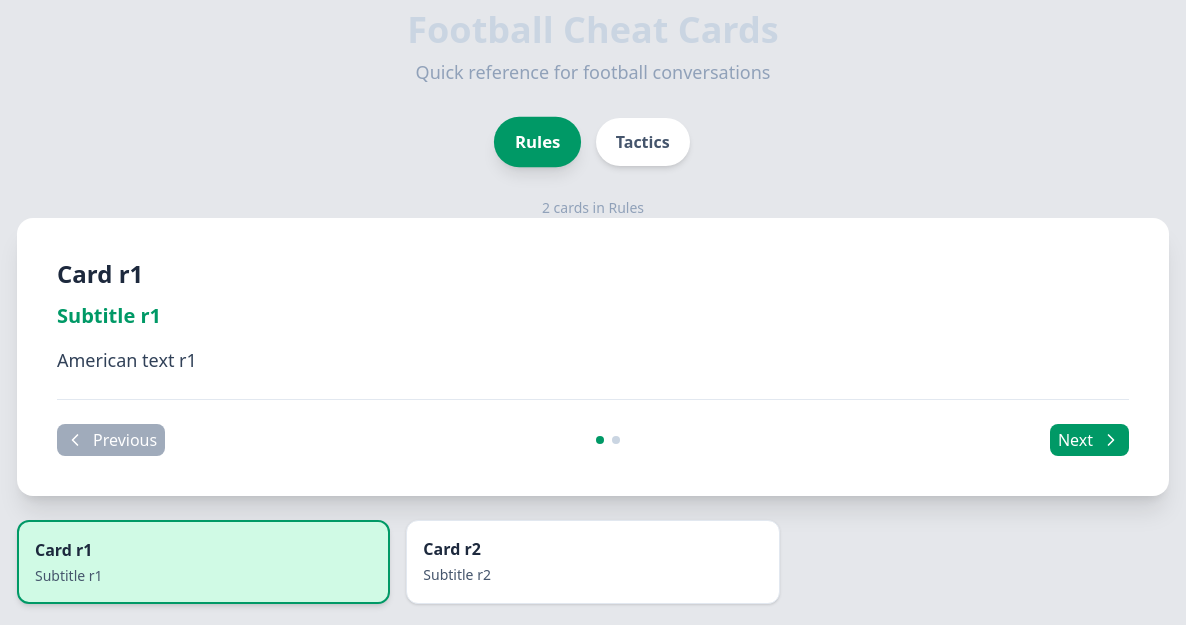
CheatCardsPage › navigation › switches category and lands on that category first card
Click the button "Tactics".
click(643, 142)  # box [596, 118, 690, 166]
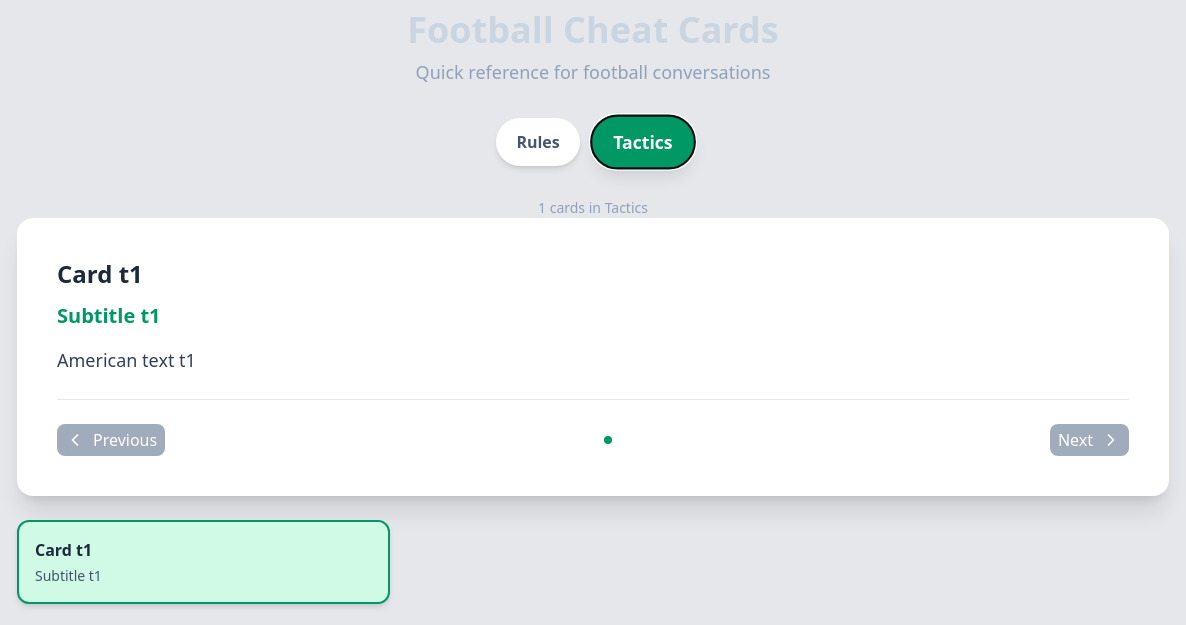
Result: the text "1 cards in Tactics" is shown at [538, 198, 648, 217]
